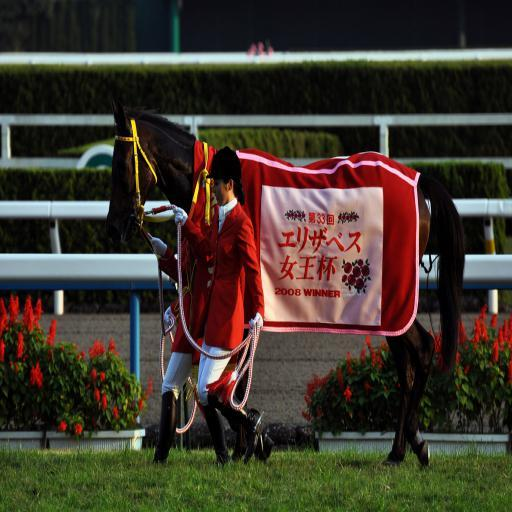Horse: (107, 92, 467, 467)
